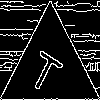T: (25, 41, 68, 97)
